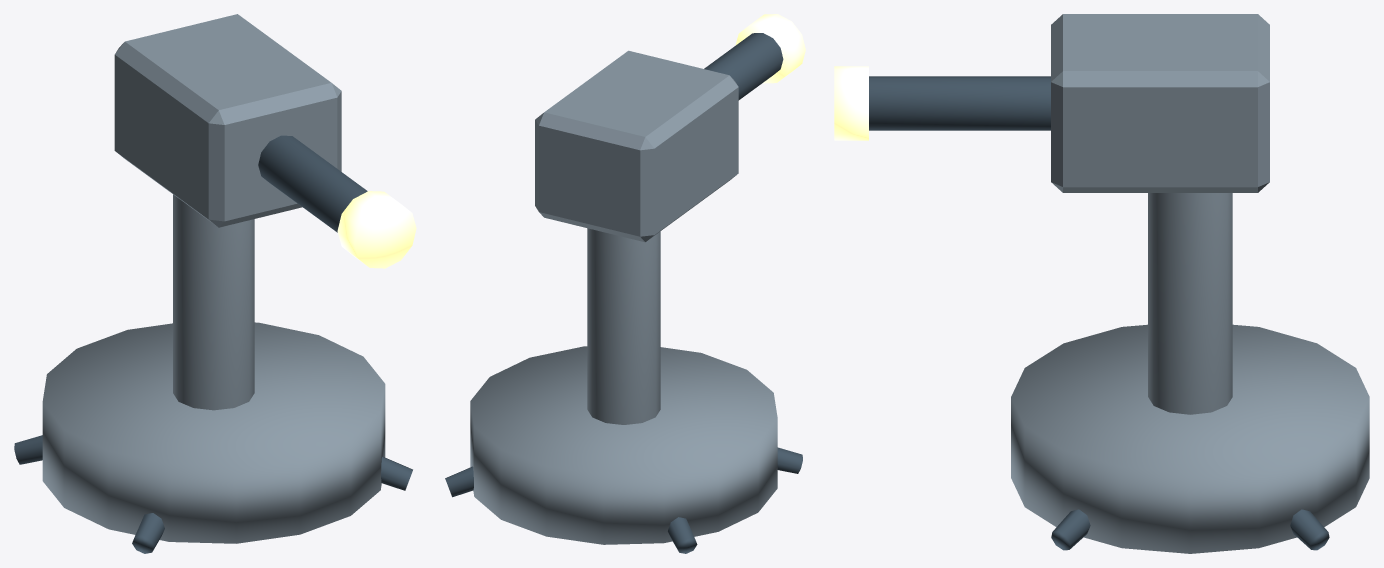
The model's file is sentry.glb.
3 views of the same model, side by side, from view 1: azimuth 30°, elevation 25°; view 2: azimuth 150°, elevation 25°; view 3: azimuth 270°, elevation 25° (orthographic). The views are drawn at different scales.
Parts seen in each view (by area): view 1: deployment_base_1, turret_body_7, turret_column_6, barrel_8, muzzle_9, tripod_2, tripod_4, tripod_3; view 2: deployment_base_1, turret_body_7, turret_column_6, barrel_8, muzzle_9, tripod_3, tripod_5, tripod_2; view 3: deployment_base_1, turret_body_7, turret_column_6, barrel_8, muzzle_9, tripod_4, tripod_5.
Boxes of the visible parts, x1=… form: deployment_base_1: x1=42, y1=322, x2=385, y2=543; turret_body_7: x1=114, y1=14, x2=341, y2=227; turret_column_6: x1=173, y1=194, x2=254, y2=410; barrel_8: x1=258, y1=135, x2=367, y2=232; muzzle_9: x1=337, y1=191, x2=416, y2=268; tripod_2: x1=132, y1=513, x2=164, y2=553; tripod_4: x1=381, y1=456, x2=412, y2=490; tripod_3: x1=14, y1=435, x2=42, y2=464; deployment_base_1: x1=470, y1=346, x2=777, y2=544; turret_body_7: x1=535, y1=50, x2=738, y2=242; turret_column_6: x1=587, y1=228, x2=660, y2=424; barrel_8: x1=704, y1=33, x2=783, y2=100; muzzle_9: x1=735, y1=14, x2=805, y2=83; tripod_3: x1=668, y1=517, x2=697, y2=553; tripod_5: x1=445, y1=466, x2=473, y2=497; tripod_2: x1=777, y1=447, x2=802, y2=473; deployment_base_1: x1=1011, y1=324, x2=1369, y2=553; turret_body_7: x1=1051, y1=14, x2=1269, y2=192; turret_column_6: x1=1148, y1=193, x2=1232, y2=414; barrel_8: x1=869, y1=76, x2=1050, y2=130; muzzle_9: x1=834, y1=66, x2=868, y2=140; tripod_4: x1=1051, y1=509, x2=1090, y2=550; tripod_5: x1=1290, y1=509, x2=1329, y2=550.
Size of the model in its own units: 0.72 by 0.9787 by 1.08.
